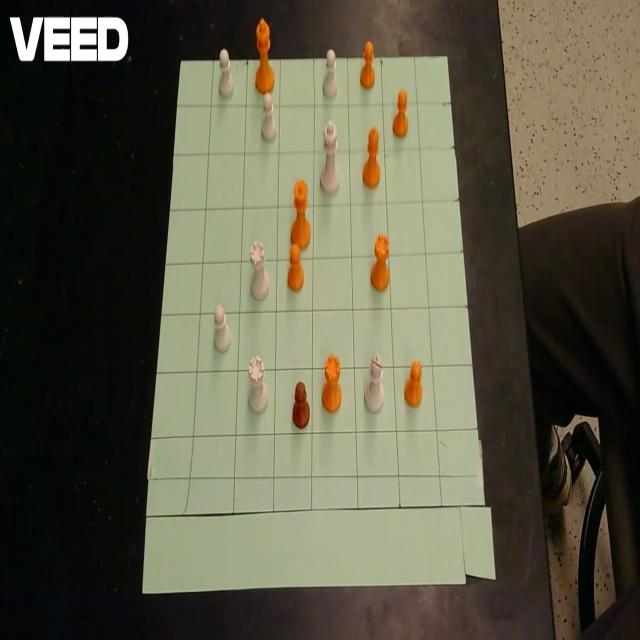orange_bishop: (362, 126, 380, 187)
orange_king: (255, 16, 274, 94)
orange_pawn: (404, 359, 422, 407), (292, 380, 310, 428), (288, 243, 304, 291), (393, 88, 408, 137), (360, 41, 375, 88)
orange_queen: (291, 177, 310, 247)
orange_rook: (322, 353, 342, 412), (370, 232, 389, 290)
white_bishop: (364, 354, 385, 412)
white_king: (320, 119, 340, 193)
white_pawn: (213, 304, 232, 352), (261, 90, 277, 140), (219, 47, 234, 98), (323, 48, 338, 97)
white_rook: (250, 240, 270, 300), (248, 355, 268, 413)
